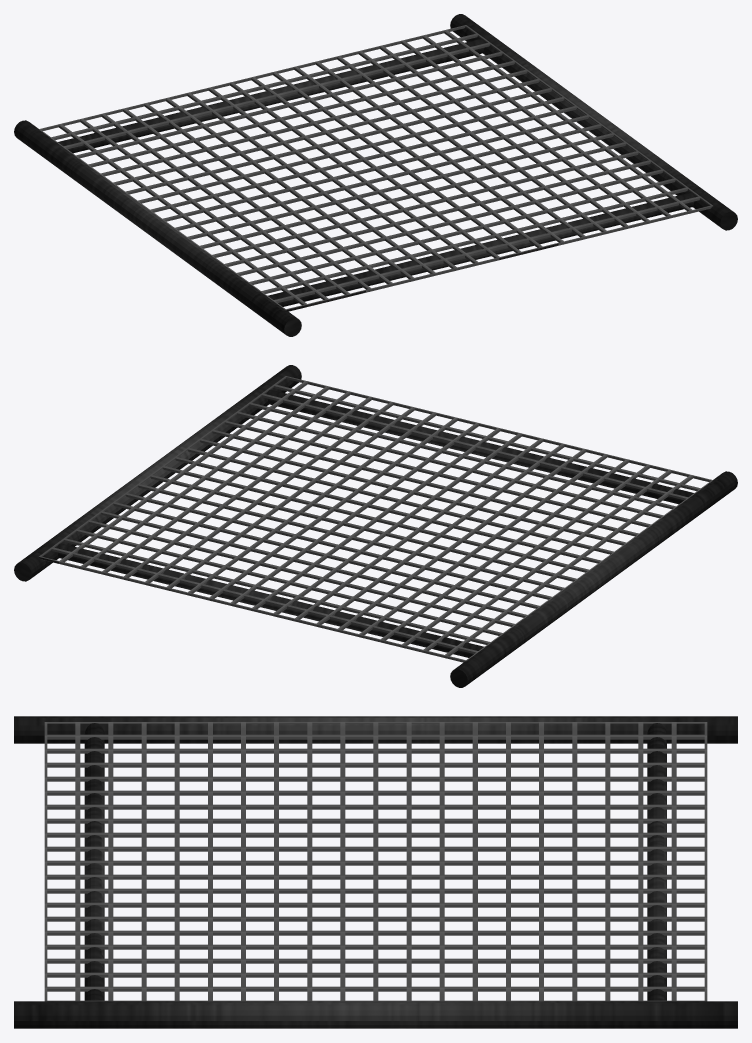
File: technical_floor.fbx
3 views of the same model, one above another, from view 1: azimuth 30°, elevation 25°; view 2: azimuth 150°, elevation 25°; view 3: azimuth 270°, elevation 25° (orthographic). The views are drawn at different scales.
Parts seen in each view (by area): view 1: Plane; view 2: Plane; view 3: Plane.
Boxes of the visible parts, x1,y1,x2,y2 form: Plane: [14, 14, 737, 336]; Plane: [14, 365, 737, 687]; Plane: [14, 716, 737, 1028].
Size of the model in its own units: 236 by 8.9 by 229.
Materials: 1 (1 with a texture image).
